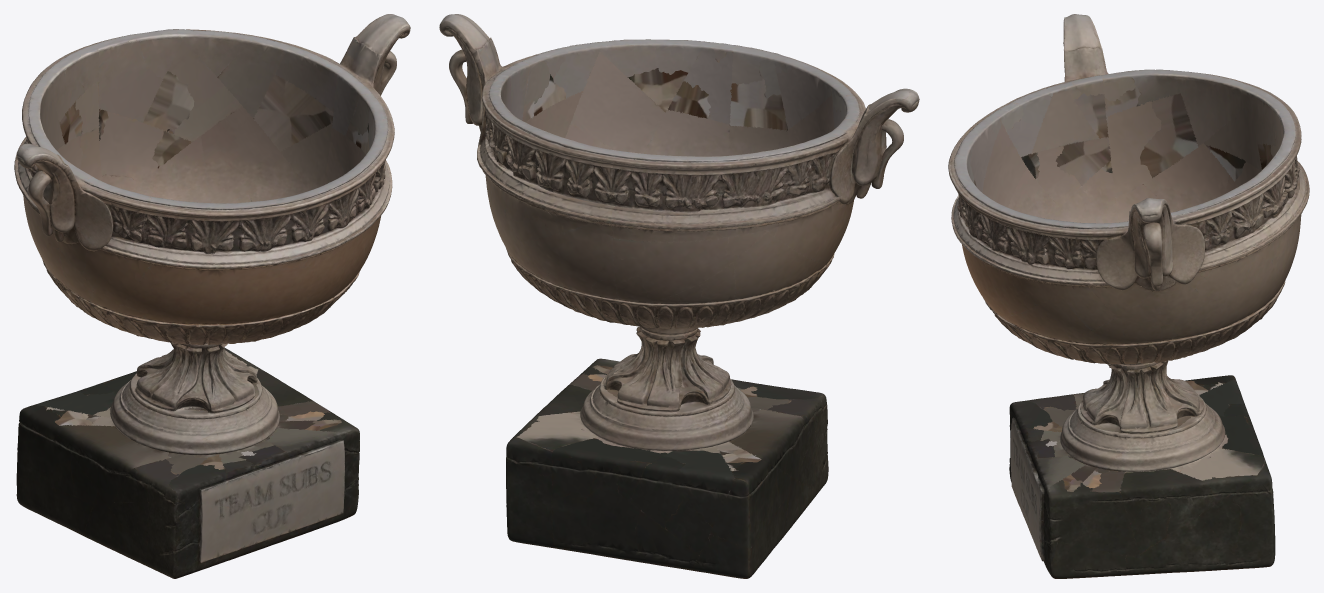
File: copa_10.glb
The picture shows the model from 3 angles, left to right: view 1: azimuth 30°, elevation 25°; view 2: azimuth 150°, elevation 25°; view 3: azimuth 270°, elevation 25°; orthographic projection. The views are drawn at different scales.
Visible parts, largest first — view 1: tmpoe2nly_vobj; view 2: tmpoe2nly_vobj; view 3: tmpoe2nly_vobj.
Boxes of the visible parts, x1,y1,x2,y2 form: tmpoe2nly_vobj: (14, 14, 410, 578); tmpoe2nly_vobj: (439, 14, 919, 578); tmpoe2nly_vobj: (948, 14, 1309, 578).
Size of the model in its own units: 0.9999 by 0.9915 by 0.767.
Materials: 1 (1 with a texture image).
